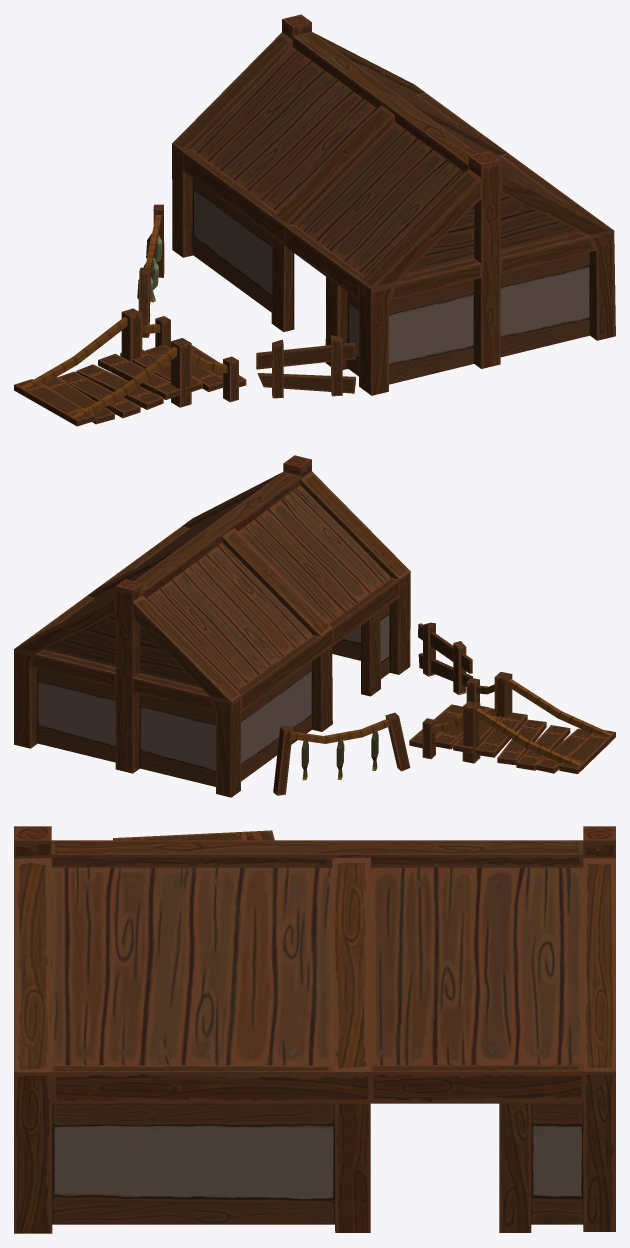
The model's file is fisherManHouse_01.gltf.
The picture shows the model from 3 angles, top to bottom: view 1: azimuth 30°, elevation 25°; view 2: azimuth 150°, elevation 25°; view 3: azimuth 270°, elevation 25°; orthographic projection. The views are drawn at different scales.
Parts seen in each view (by area): view 1: Cube.130, Cube.140, Cube.125, Cube.123; view 2: Cube.130, Cube.140, Cube.125, Cube.123; view 3: Cube.130, Cube.140.
Part boxes in pixels (x1,y1,x2,y2): Cube.130: [172, 14, 615, 395]; Cube.140: [14, 342, 356, 426]; Cube.125: [121, 204, 342, 407]; Cube.123: [21, 215, 227, 417]; Cube.130: [14, 455, 410, 797]; Cube.140: [409, 623, 615, 774]; Cube.125: [273, 622, 512, 795]; Cube.123: [292, 678, 611, 765]; Cube.130: [14, 826, 615, 1233]; Cube.140: [113, 830, 274, 840].
Size of the model in its own units: 870 by 334 by 581.
5 materials, 5 textured.
